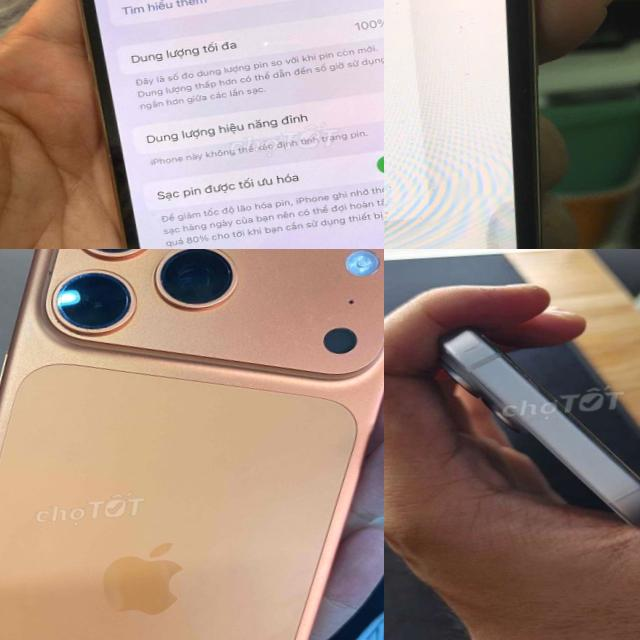screen_defect: (476, 188, 545, 249)
